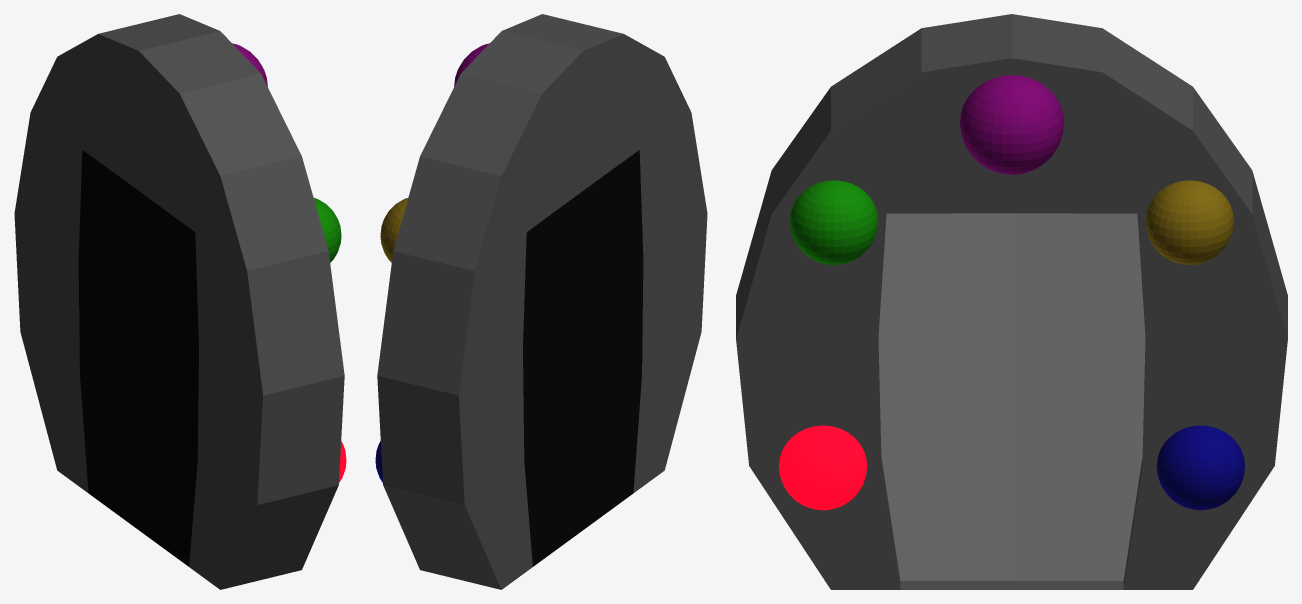
The model's file is 宝石扉(1光）.fbx.
3 views of the same model, side by side, from view 1: azimuth 30°, elevation 25°; view 2: azimuth 150°, elevation 25°; view 3: azimuth 270°, elevation 25° (orthographic). The views are drawn at different scales.
Parts seen in each view (by area): view 1: Cube, Cube.004; view 2: Cube, Cube.001; view 3: Cube, Cube.007, Cube.006, Cube.002, Cube.001, Cube.004, Cube.003, Cube.005.
Boxes of the visible parts, box(x1,y1,x2,y2) form: Cube: box(14, 14, 344, 589); Cube.004: box(314, 198, 341, 262); Cube: box(377, 14, 707, 589); Cube.001: box(380, 198, 407, 262); Cube: box(736, 14, 1287, 589); Cube.007: box(878, 213, 1014, 580); Cube.006: box(1013, 213, 1145, 580); Cube.002: box(960, 75, 1063, 174); Cube.001: box(1145, 180, 1233, 264); Cube.004: box(790, 180, 878, 264); Cube.003: box(779, 425, 867, 510); Cube.005: box(1156, 425, 1244, 510).
Size of the model in its own units: 260 by 969 by 912.
